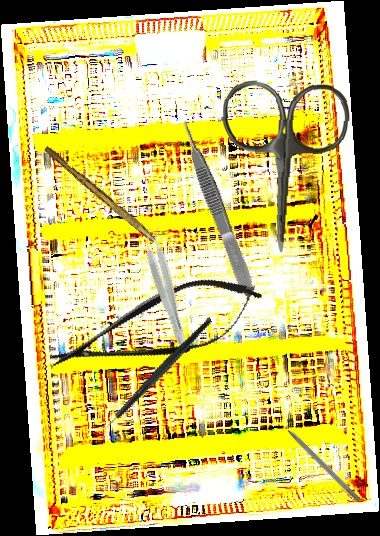Chopper: (73, 316, 240, 445)
Hook Surgical: (277, 418, 362, 503)
Iris Scissors: (215, 78, 352, 257)
Micro Scissor: (38, 260, 273, 396)
Scalpel Handle: (41, 145, 160, 243)
Tissue Forceps: (176, 116, 258, 298), (139, 226, 195, 349)
